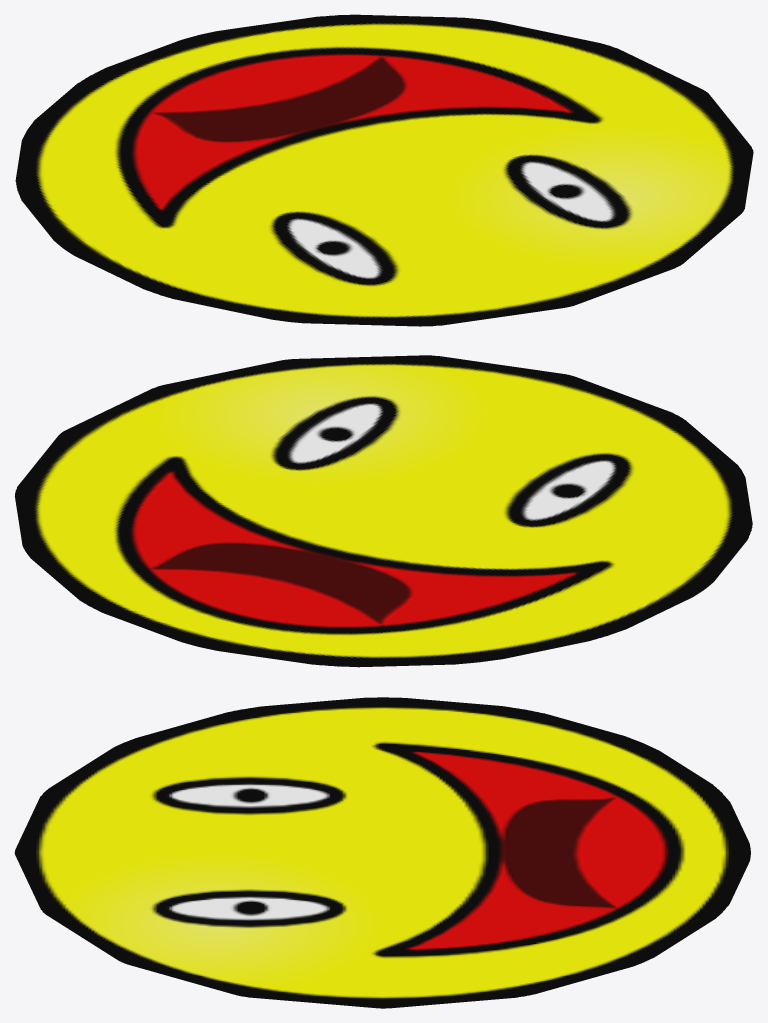
The model's file is TokenCircle.fbx.
3 renders of one model, top to bottom at view 1: azimuth 30°, elevation 25°; view 2: azimuth 150°, elevation 25°; view 3: azimuth 270°, elevation 25°, orthographic.
Visible parts, largest first — view 1: TokenCircle; view 2: TokenCircle; view 3: TokenCircle.
Part boxes in pixels (x1,y1,x2,y2): TokenCircle: (15, 14, 753, 326); TokenCircle: (15, 355, 752, 667); TokenCircle: (14, 697, 750, 1008).
Size of the model in its own units: 0.0906 by 1.48e-08 by 0.0906.
